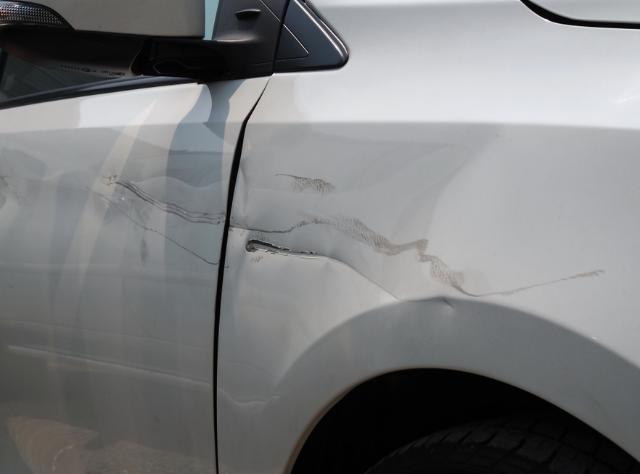Door: (61, 150, 234, 272)
Fender: (217, 139, 623, 332)
